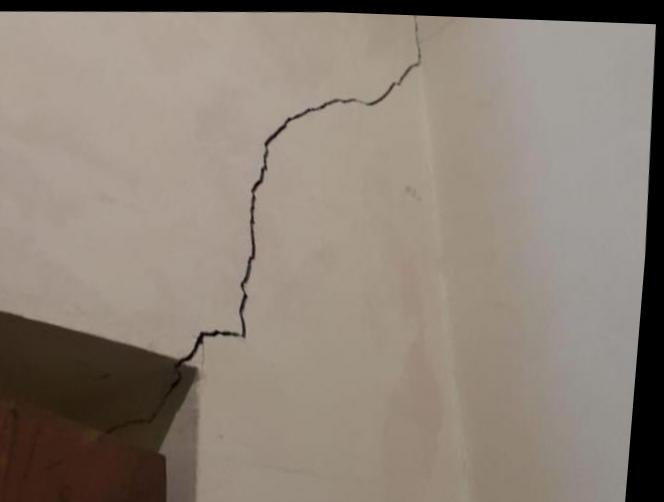crack: (112, 12, 422, 434)
